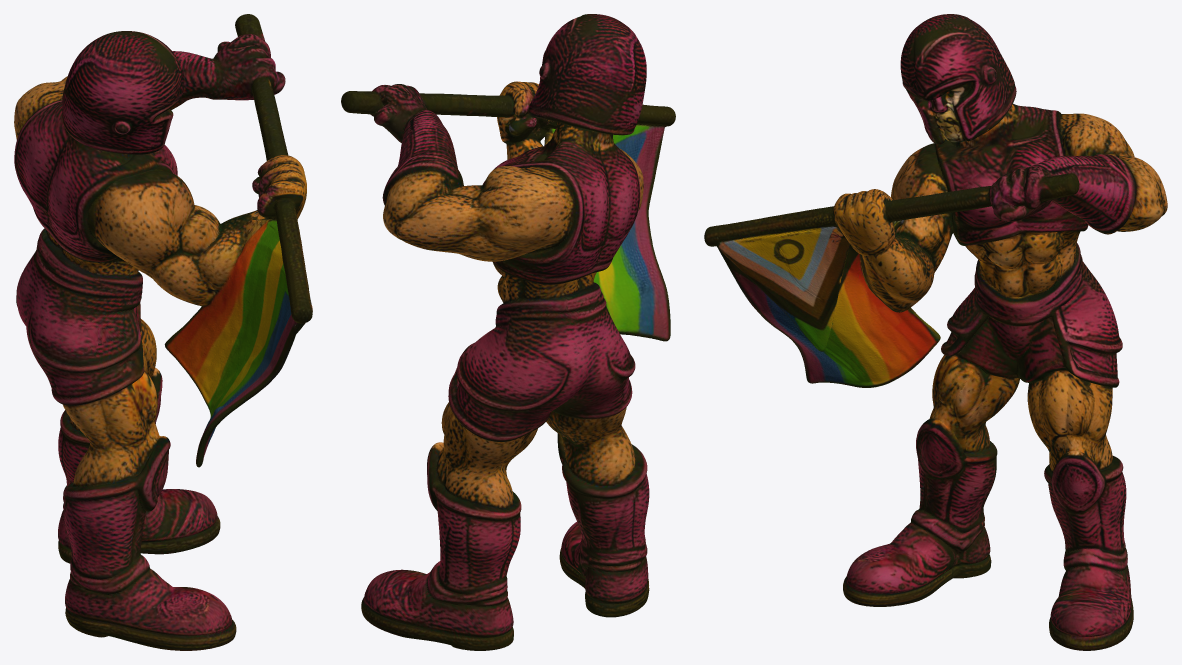
3 renders of one model, left to right at view 1: azimuth 30°, elevation 25°; view 2: azimuth 150°, elevation 25°; view 3: azimuth 270°, elevation 25°, orthographic. The views are drawn at different scales.
Visible parts, largest first — view 1: tripo_node_07634dbf-8b7a-4fc3-9ed2-1c7fd46c7884; view 2: tripo_node_07634dbf-8b7a-4fc3-9ed2-1c7fd46c7884; view 3: tripo_node_07634dbf-8b7a-4fc3-9ed2-1c7fd46c7884.
Part boxes in pixels (<box>): tripo_node_07634dbf-8b7a-4fc3-9ed2-1c7fd46c7884: <box>14,14,312,650</box>; tripo_node_07634dbf-8b7a-4fc3-9ed2-1c7fd46c7884: <box>341,14,675,650</box>; tripo_node_07634dbf-8b7a-4fc3-9ed2-1c7fd46c7884: <box>704,14,1167,650</box>.
Size of the model in its own units: 0.4587 by 1 by 0.7497.
Materials: 1 (1 with a texture image).
